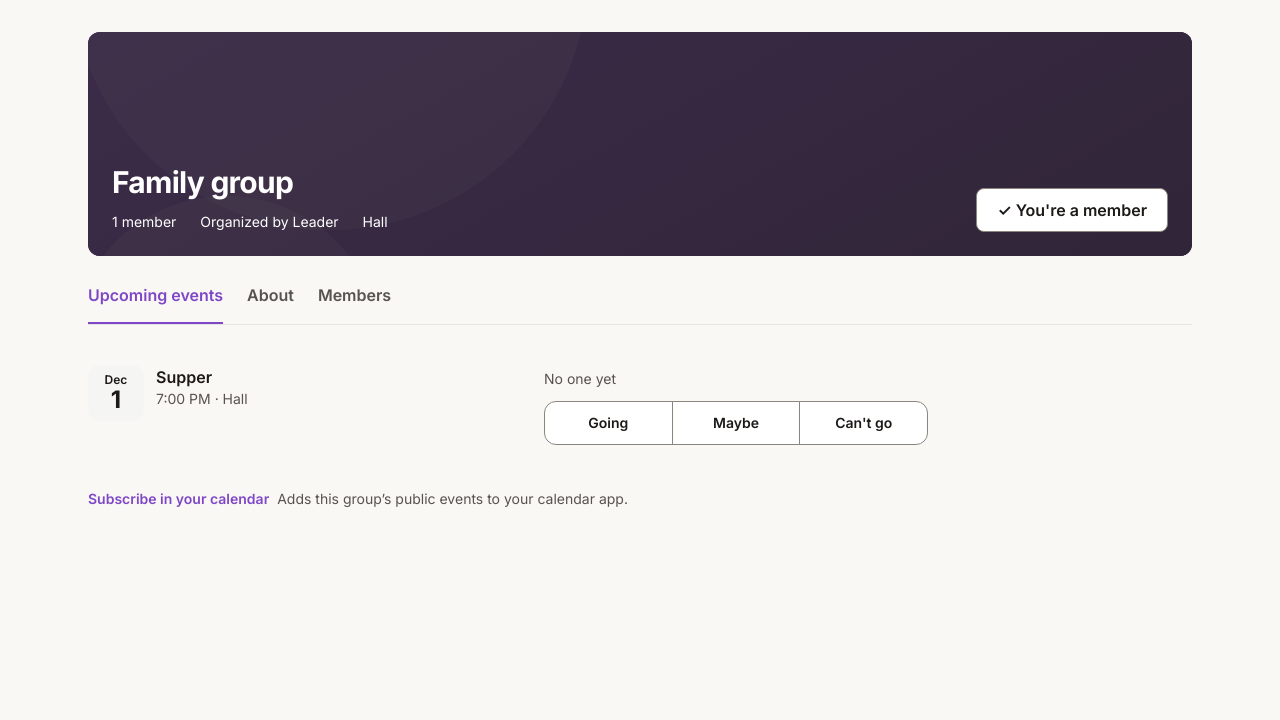
Test: clears protected group data while a terminal Undo refresh is still pending
This screenshot has width=1280, height=720.
Click the button "Maybe" at (736, 423), box [672,401,800,445]
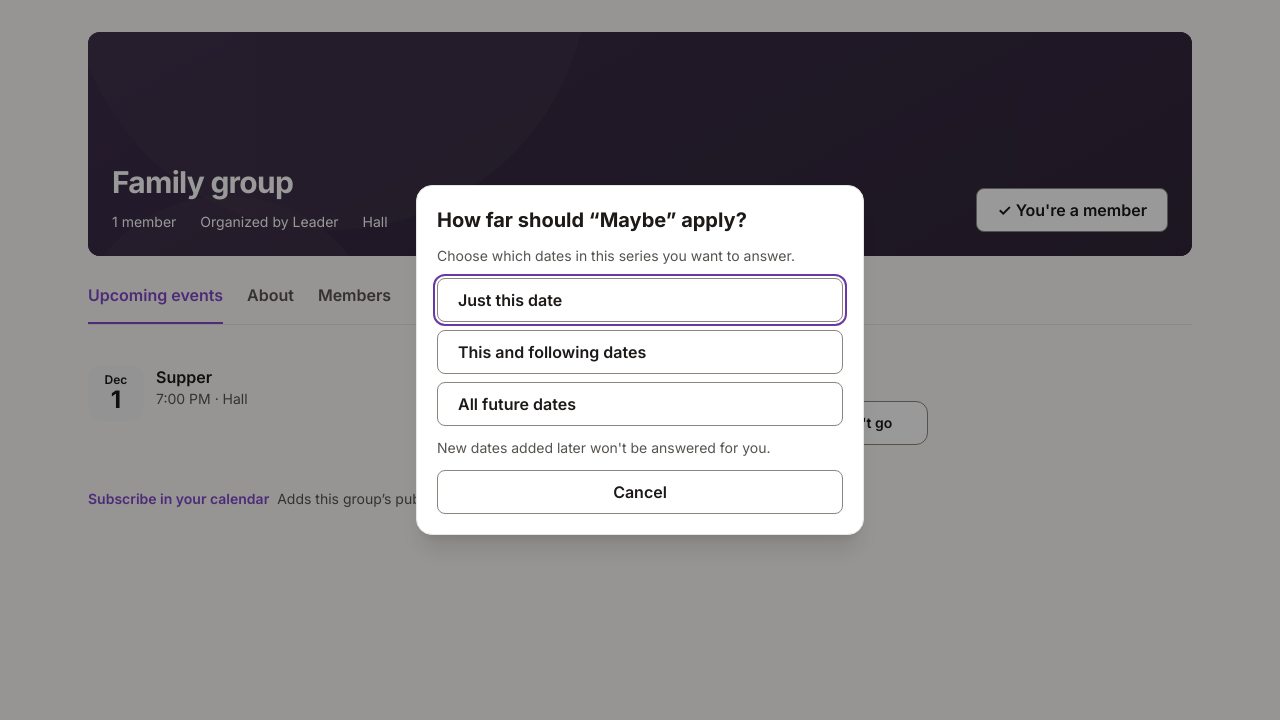
Click the button "All future dates" at (517, 404), box [437,382,843,426]
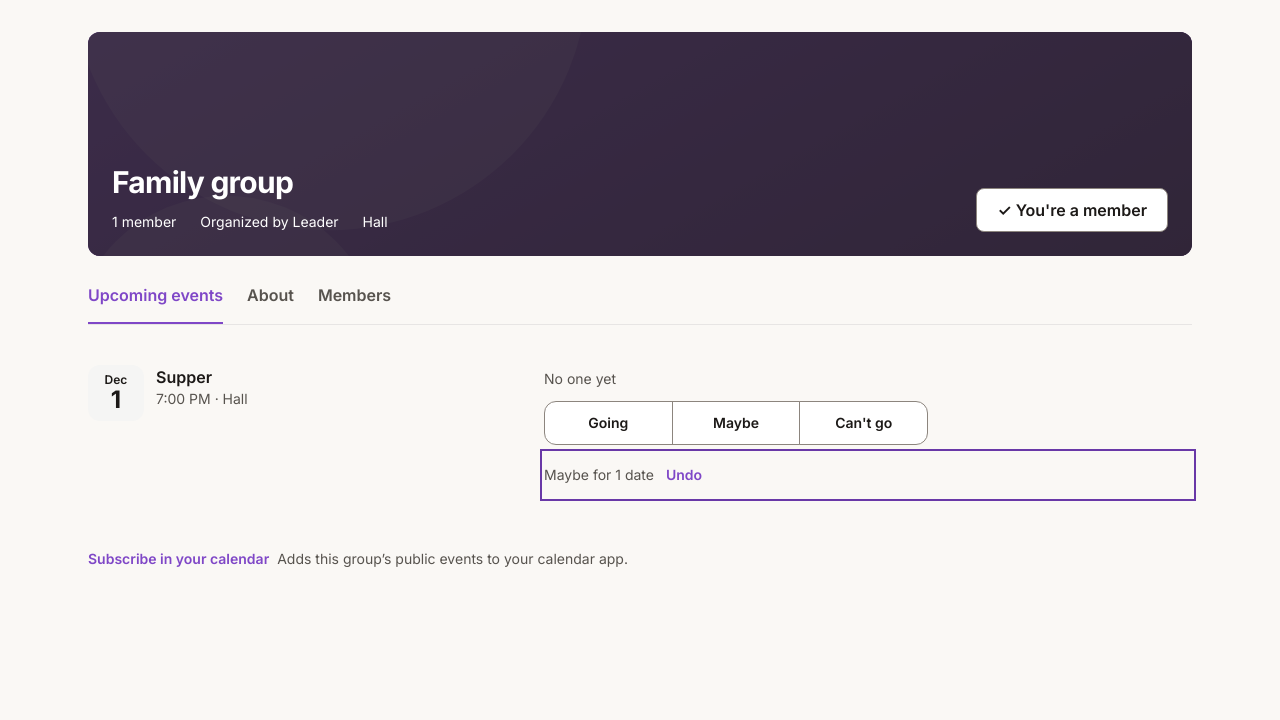
Click the button "Undo" at (684, 475), box [662,453,706,497]
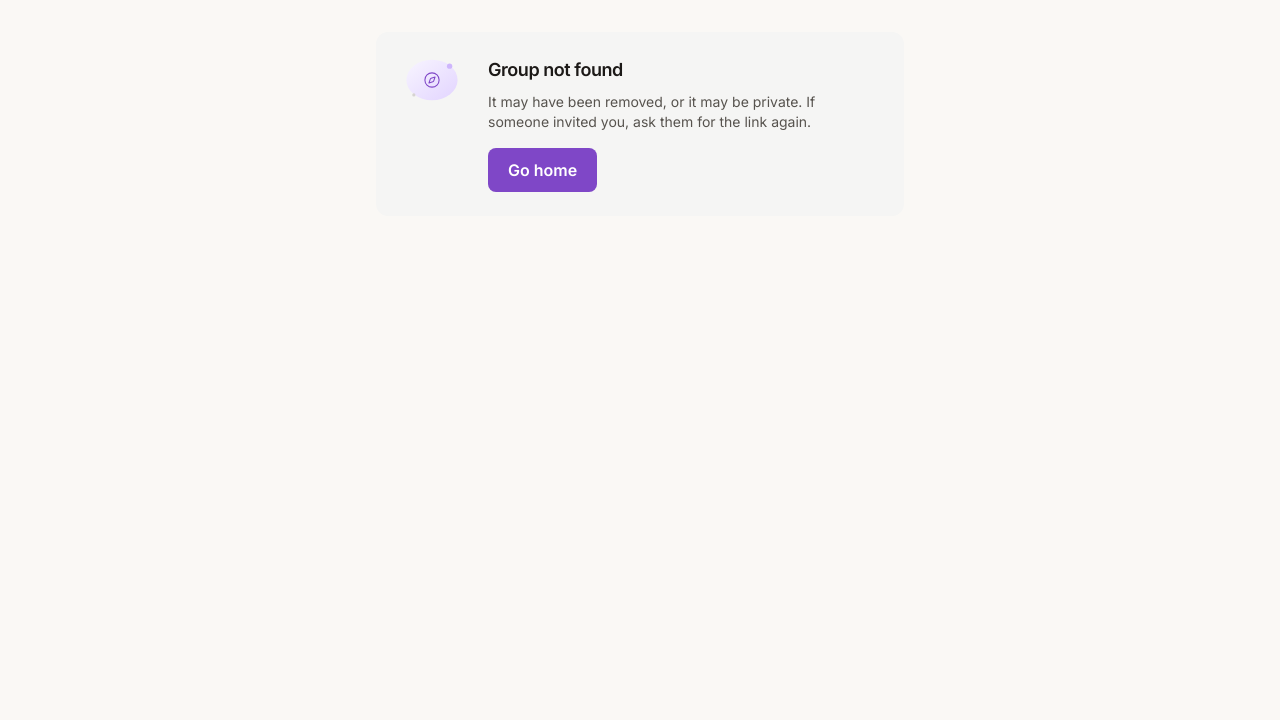
Result: the heading "Family group" is gone
Result: the heading "Group not found" is shown at [488,59,623,80]
